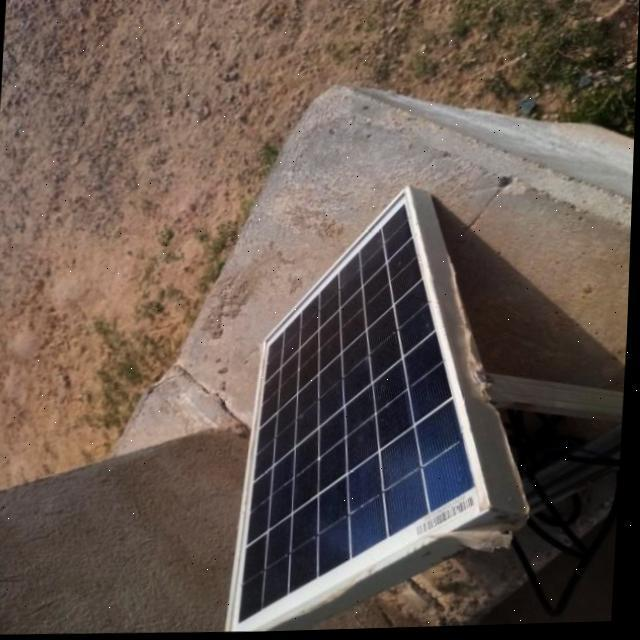Normal Solar Panel: (232, 187, 508, 634)
